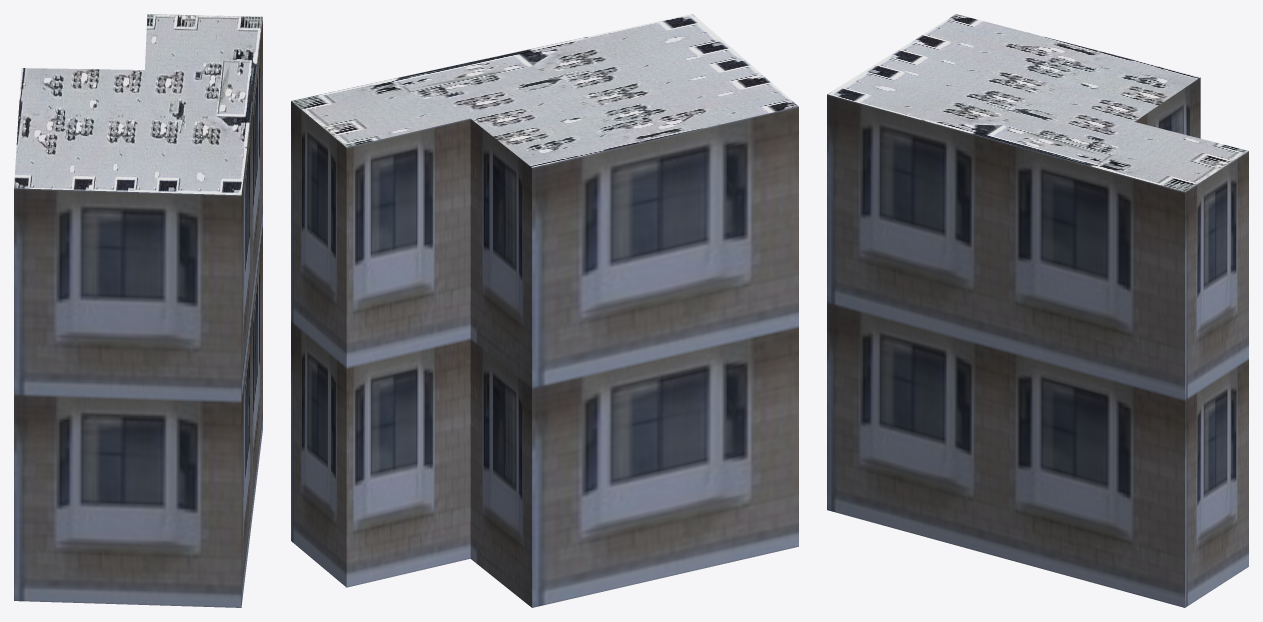
Rendered from ResTex__2236.fbx.
3 renders of one model, left to right at view 1: azimuth 30°, elevation 25°; view 2: azimuth 150°, elevation 25°; view 3: azimuth 270°, elevation 25°, orthographic. The views are drawn at different scales.
Visible parts, largest first — view 1: CityEngineMaterial_3_m, CityEngineMaterial_4_m; view 2: CityEngineMaterial_3_m, CityEngineMaterial_4_m; view 3: CityEngineMaterial_3_m, CityEngineMaterial_4_m.
Part boxes in pixels (bbox=[...]): CityEngineMaterial_3_m: bbox=[14, 18, 262, 607]; CityEngineMaterial_4_m: bbox=[14, 14, 262, 195]; CityEngineMaterial_3_m: bbox=[291, 101, 798, 607]; CityEngineMaterial_4_m: bbox=[291, 14, 798, 167]; CityEngineMaterial_3_m: bbox=[827, 77, 1248, 607]; CityEngineMaterial_4_m: bbox=[827, 14, 1248, 191].
Size of the model in its own units: 5.52 by 6 by 5.52.
Materials: 2 (2 with a texture image).
